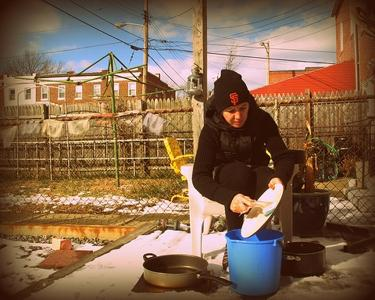person: (199, 77, 302, 247)
